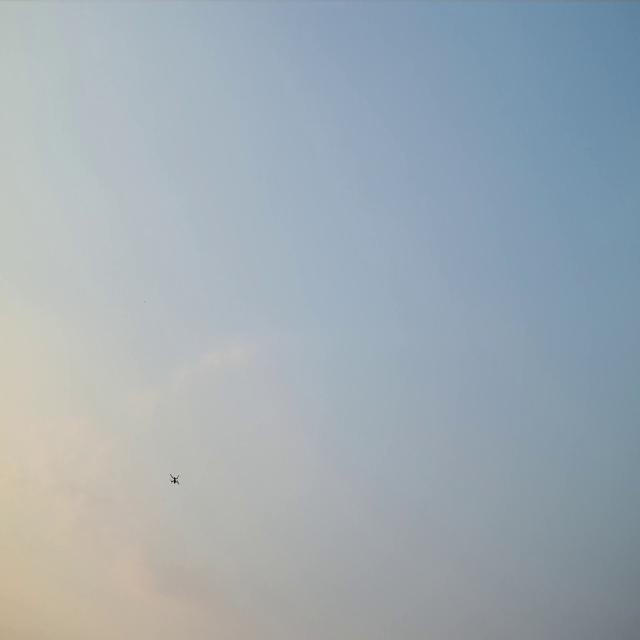UAV: (170, 473, 180, 485)
